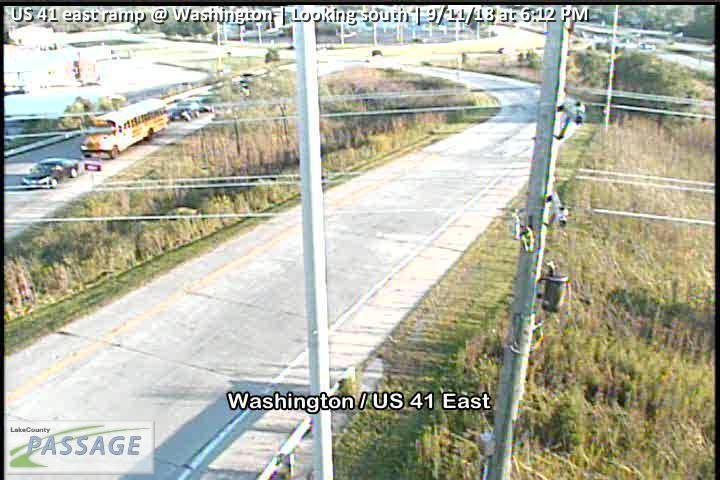Bus: (81, 96, 169, 159)
Sedan: (21, 157, 80, 190), (169, 98, 200, 120)
